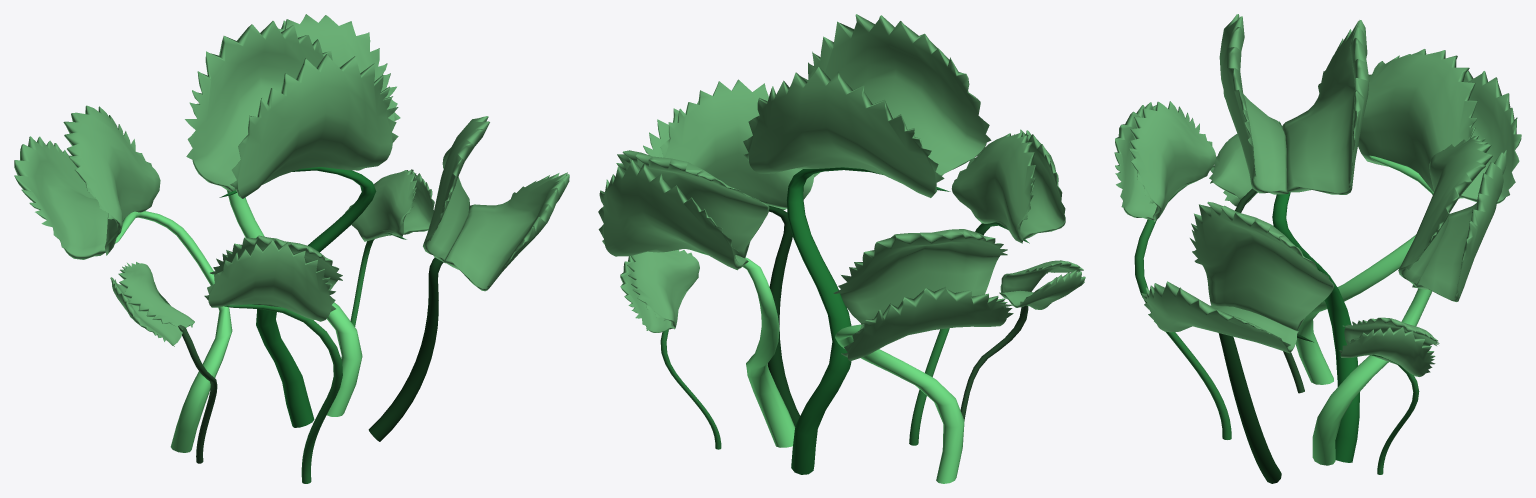
Rendered from venusflytrap.fbx.
The picture shows the model from 3 angles, left to right: view 1: azimuth 30°, elevation 25°; view 2: azimuth 150°, elevation 25°; view 3: azimuth 270°, elevation 25°; orthographic projection. The views are drawn at different scales.
Parts seen in each view (by area): view 1: venusflytrap:pCube1 (×3), venusflytrap:pCube2 (×3), venusflytrap:pCube4 (×4), venusflytrap:pCube3 (×3), venusflytrap:pCylinder3, venusflytrap:pCylinder5, venusflytrap:pCylinder6, venusflytrap:pCylinder2, venusflytrap:pCylinder1, venusflytrap:pCylinder4, venusflytrap:pCylinder7; view 2: venusflytrap:pCube2 (×3), venusflytrap:pCube1 (×3), venusflytrap:pCube3 (×4), venusflytrap:pCube4 (×4), venusflytrap:pCylinder3, venusflytrap:pCylinder6, venusflytrap:pCylinder5, venusflytrap:pCylinder2, venusflytrap:pCylinder1, venusflytrap:pCylinder4, venusflytrap:pCylinder7; view 3: venusflytrap:pCube2 (×3), venusflytrap:pCube1 (×3), venusflytrap:pCube3 (×3), venusflytrap:pCube4 (×4), venusflytrap:pCylinder3, venusflytrap:pCylinder5, venusflytrap:pCylinder6, venusflytrap:pCylinder2, venusflytrap:pCylinder1, venusflytrap:pCylinder7, venusflytrap:pCylinder4.
Boxes of the visible parts, bbox=[...] form: venusflytrap:pCube1 (×3): bbox=[63, 54, 569, 291]; venusflytrap:pCube2 (×3): bbox=[14, 21, 489, 263]; venusflytrap:pCube4 (×4): bbox=[118, 14, 434, 329]; venusflytrap:pCube3 (×3): bbox=[110, 170, 417, 346]; venusflytrap:pCylinder3: bbox=[219, 167, 376, 427]; venusflytrap:pCylinder5: bbox=[115, 211, 232, 452]; venusflytrap:pCylinder6: bbox=[227, 190, 362, 416]; venusflytrap:pCylinder2: bbox=[368, 257, 443, 441]; venusflytrap:pCylinder1: bbox=[224, 304, 342, 483]; venusflytrap:pCylinder4: bbox=[159, 293, 217, 463]; venusflytrap:pCylinder7: bbox=[350, 233, 406, 326]; venusflytrap:pCube2 (×3): bbox=[660, 66, 1013, 361]; venusflytrap:pCube1 (×3): bbox=[643, 14, 1007, 324]; venusflytrap:pCube3 (×4): bbox=[598, 132, 1085, 329]; venusflytrap:pCube4 (×4): bbox=[616, 129, 1083, 332]; venusflytrap:pCylinder3: bbox=[786, 167, 950, 474]; venusflytrap:pCylinder6: bbox=[691, 250, 795, 447]; venusflytrap:pCylinder5: bbox=[835, 324, 964, 483]; venusflytrap:pCylinder2: bbox=[767, 205, 799, 426]; venusflytrap:pCylinder1: bbox=[909, 222, 1029, 445]; venusflytrap:pCylinder4: bbox=[960, 293, 1028, 420]; venusflytrap:pCylinder7: bbox=[660, 329, 721, 449]; venusflytrap:pCube2 (×3): bbox=[1190, 20, 1521, 330]; venusflytrap:pCube1 (×3): bbox=[1141, 14, 1477, 353]; venusflytrap:pCube3 (×3): bbox=[1129, 101, 1506, 364]; venusflytrap:pCube4 (×4): bbox=[1114, 102, 1492, 376]; venusflytrap:pCylinder3: bbox=[1272, 122, 1359, 462]; venusflytrap:pCylinder5: bbox=[1295, 155, 1433, 384]; venusflytrap:pCylinder6: bbox=[1312, 288, 1432, 465]; venusflytrap:pCylinder2: bbox=[1218, 333, 1313, 483]; venusflytrap:pCylinder1: bbox=[1134, 186, 1231, 439]; venusflytrap:pCylinder7: bbox=[1370, 354, 1419, 474]; venusflytrap:pCylinder4: bbox=[1235, 188, 1304, 393].
Size of the model in its own units: 43.55 by 39.47 by 34.25.
